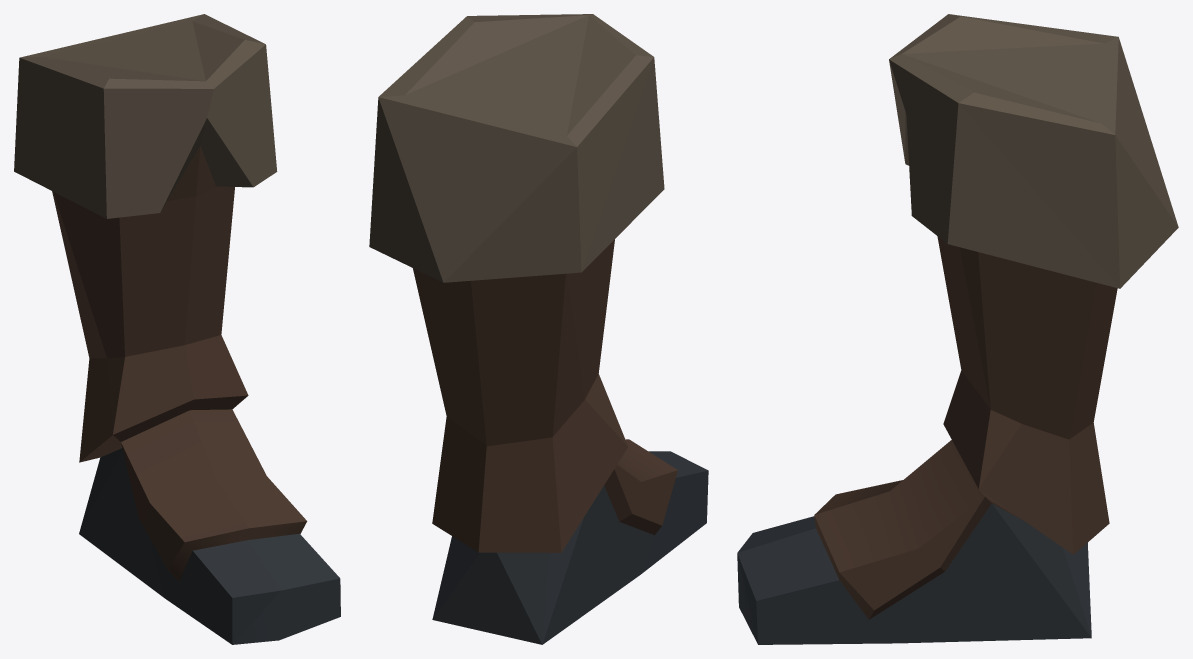
The model's file is Chr_LegRight_Male_19_Static.fbx.
3 renders of one model, left to right at view 1: azimuth 30°, elevation 25°; view 2: azimuth 150°, elevation 25°; view 3: azimuth 270°, elevation 25°, orthographic. The views are drawn at different scales.
Parts seen in each view (by area): view 1: Chr_LegRight_Male_19_Static; view 2: Chr_LegRight_Male_19_Static; view 3: Chr_LegRight_Male_19_Static.
Boxes of the visible parts, bbox=[...] form: Chr_LegRight_Male_19_Static: bbox=[14, 14, 340, 644]; Chr_LegRight_Male_19_Static: bbox=[369, 14, 708, 644]; Chr_LegRight_Male_19_Static: bbox=[737, 14, 1178, 644].
Bounding box in the file's own units: 0.163 × 0.4045 × 0.2923.
